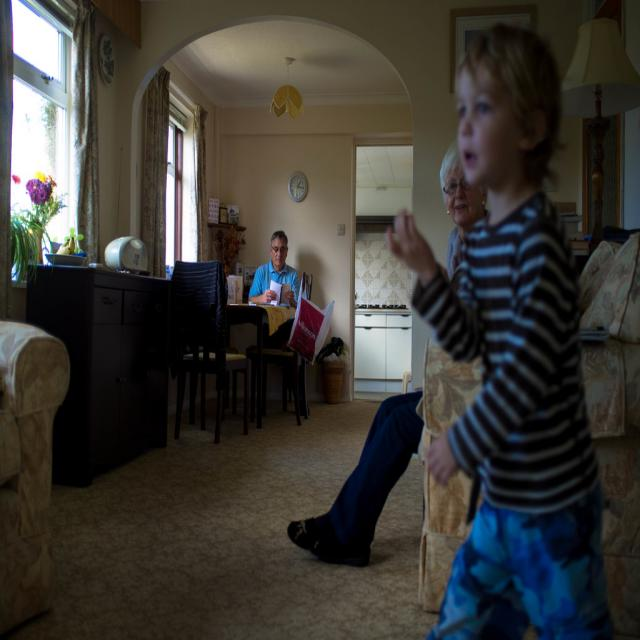chair: (168, 260, 250, 443), (251, 280, 332, 428)
desk: (192, 302, 297, 432)
person: (283, 24, 612, 624), (248, 229, 300, 410)
